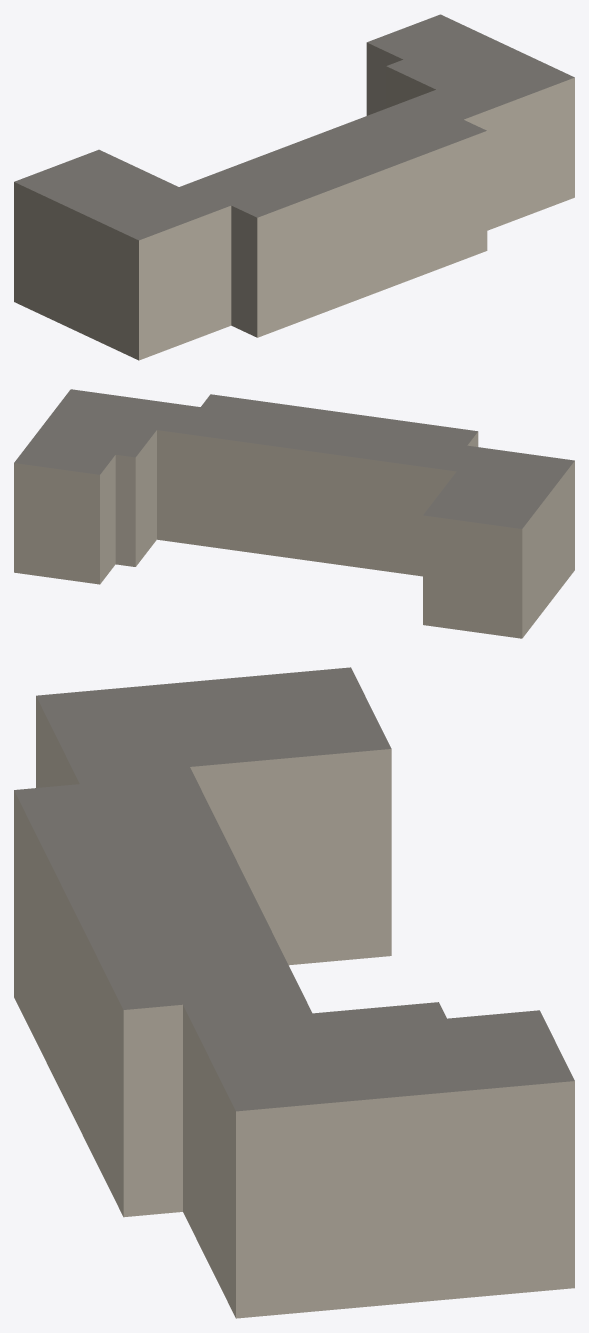
The picture shows the model from 3 angles, top to bottom: view 1: azimuth 30°, elevation 25°; view 2: azimuth 150°, elevation 25°; view 3: azimuth 270°, elevation 25°; orthographic projection. The views are drawn at different scales.
Parts seen in each view (by area): view 1: HP-w299010060; view 2: HP-w299010060; view 3: HP-w299010060.
Boxes of the visible parts, x1=… form: HP-w299010060: x1=14, y1=14, x2=574, y2=360; HP-w299010060: x1=14, y1=389, x2=574, y2=638; HP-w299010060: x1=14, y1=667, x2=574, y2=1318.
Bounding box in the file's own units: 82.75 × 18 × 44.18.
